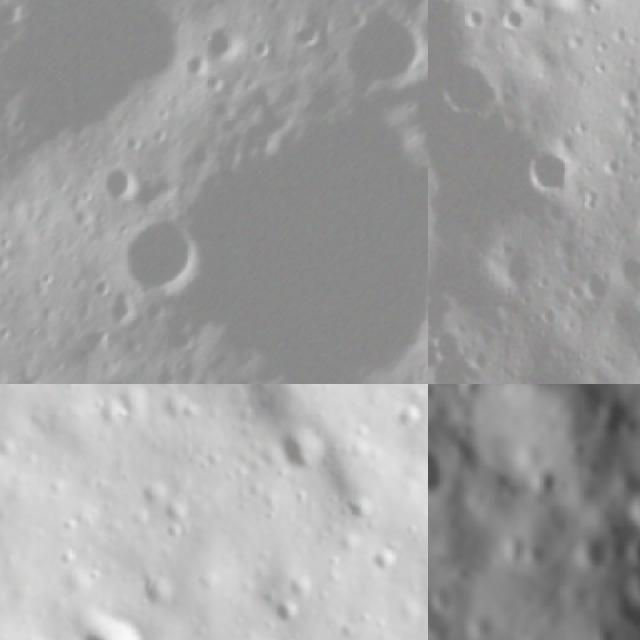crater: (114, 224, 216, 304), (428, 0, 499, 112), (327, 12, 428, 88), (524, 142, 577, 200), (274, 424, 324, 477), (75, 610, 162, 640), (428, 575, 463, 634), (205, 24, 248, 62), (103, 167, 140, 211), (267, 588, 302, 624), (450, 384, 496, 411), (404, 456, 428, 505), (137, 573, 174, 604), (619, 475, 640, 529), (428, 289, 454, 332), (428, 441, 447, 494), (553, 0, 604, 18), (202, 71, 236, 96), (173, 57, 207, 78), (298, 26, 323, 52), (91, 278, 115, 300), (254, 44, 280, 63), (40, 274, 56, 294), (0, 322, 12, 344), (0, 232, 16, 248)
